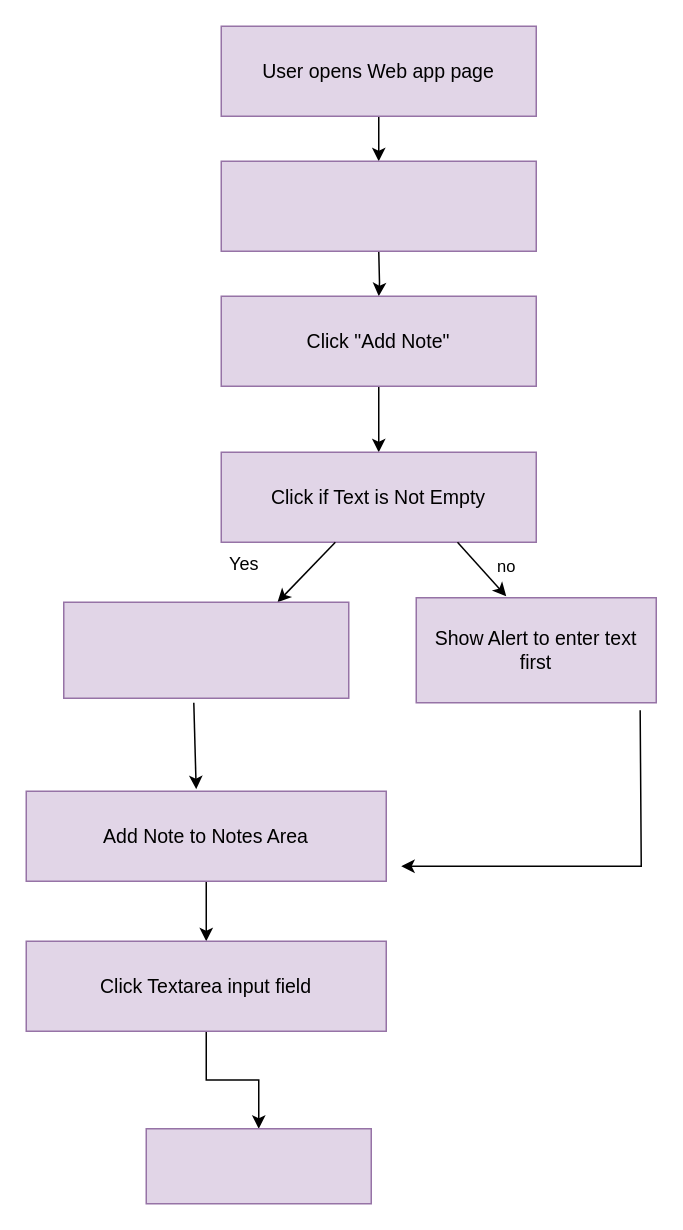
This 683x1230 diagram has some shape labels left out. Each missing label, with the centre of its shape:
"Create new note in <div> element" goes at pixel 205 649.
"End of the Flow" goes at pixel 258 1165.
"User types note in Text area input" goes at pixel 378 205.
